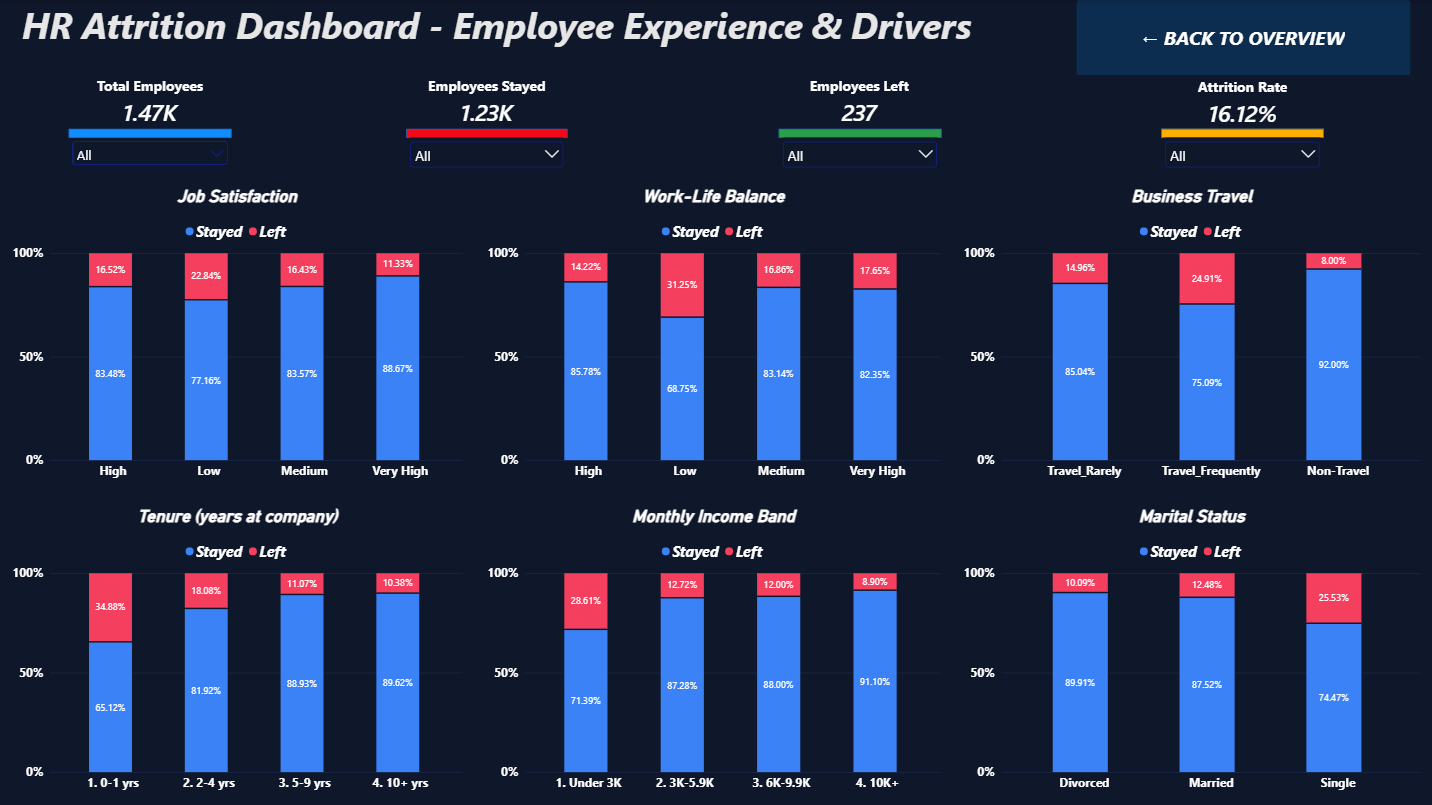

Layout of this report page (visuals, bound fields, positions):
{"tool":"powerbi","page":{"name":"Employee Experience","canvas":[1920,1080],"ordinal":1},"visuals":[{"type":"textbox","box":[0,0,1331,106.3],"z":0},{"type":"actionButton","box":[1442.7,0,448.3,101.2],"z":1000},{"type":"cardVisual","fields":{"Data":["Data.Total Employees"]},"box":[92.4,101.2,218,71.5],"z":2000},{"type":"cardVisual","fields":{"Data":["Data.Attrition Rate"]},"box":[1555.8,102.9,218,71.5],"z":3000},{"type":"cardVisual","fields":{"Data":["Data.Employees Left"]},"box":[1043,101.2,216.3,71.5],"z":4000},{"type":"cardVisual","fields":{"Data":["Data.Employees Stayed"]},"box":[544.2,101.2,216.3,71.5],"z":5000},{"type":"shape","box":[92.4,172.7,218,12.2],"z":6000},{"type":"shape","box":[544.2,172.7,216.3,12.2],"z":7000},{"type":"shape","box":[1043,172.7,218,12.2],"z":8000},{"type":"shape","box":[1555.8,172.7,218,12.2],"z":9000},{"type":"slicer","fields":{"Values":["Data.Gender"]},"box":[92.4,184.9,218,48.8],"z":10000},{"type":"slicer","fields":{"Values":["Data.OverTime"]},"box":[544.2,184.9,216.3,48.8],"z":11000},{"type":"slicer","fields":{"Values":["Data.Department"]},"box":[1043,184.9,218,48.8],"z":12000},{"type":"slicer","fields":{"Values":["Data.JobRole"]},"box":[1555.8,184.9,218,48.8],"z":13000},{"type":"hundredPercentStackedColumnChart","title":"Job Satisfaction","fields":{"Category":["Data.JobSatisfaction"],"Series":["Data.Status"],"Y":["CountNonNull(Data.EmployeeNumber)"]},"box":[0,234.1,635.8,428.7],"z":14000},{"type":"hundredPercentStackedColumnChart","title":"Work-Life Balance","fields":{"Category":["Data.WorkLifeBalance"],"Series":["Data.Status"],"Y":["CountNonNull(Data.EmployeeNumber)"]},"box":[635.8,234.1,639.4,428.7],"z":15000},{"type":"hundredPercentStackedColumnChart","title":"Tenure (years at company)","fields":{"Category":["Data.TenureBand"],"Series":["Data.Status"],"Y":["CountNonNull(Data.EmployeeNumber)"]},"box":[0,662.8,635.8,417.9],"z":16000},{"type":"hundredPercentStackedColumnChart","title":"Monthly Income Band","fields":{"Category":["Data.IncomeBand"],"Series":["Data.Status"],"Y":["CountNonNull(Data.EmployeeNumber)"]},"box":[635.8,662.8,639.4,417.9],"z":17000},{"type":"hundredPercentStackedColumnChart","title":"Business Travel","fields":{"Category":["Data.BusinessTravel"],"Series":["Data.Status"],"Y":["CountNonNull(Data.EmployeeNumber)"]},"box":[1275.2,234.1,644.8,428.7],"z":18000},{"type":"hundredPercentStackedColumnChart","title":"Marital Status","fields":{"Category":["Data.MaritalStatus"],"Series":["Data.Status"],"Y":["CountNonNull(Data.EmployeeNumber)"]},"box":[1275.2,662.8,644.8,417.9],"z":19000}]}

Visuals, with their boxes in screenshot pixels (x1, y1, x2, y2), scaled from the page's 1920x1080 canvas onto the 1432x805 screenshot:
textbox: crop(0, 0, 993, 79)
actionButton: crop(1076, 0, 1410, 75)
cardVisual - Data.Total Employees: crop(69, 75, 232, 129)
cardVisual - Data.Attrition Rate: crop(1160, 77, 1323, 130)
cardVisual - Data.Employees Left: crop(778, 75, 939, 129)
cardVisual - Data.Employees Stayed: crop(406, 75, 567, 129)
shape: crop(69, 129, 232, 138)
shape: crop(406, 129, 567, 138)
shape: crop(778, 129, 940, 138)
shape: crop(1160, 129, 1323, 138)
slicer - Data.Gender: crop(69, 138, 232, 174)
slicer - Data.OverTime: crop(406, 138, 567, 174)
slicer - Data.Department: crop(778, 138, 940, 174)
slicer - Data.JobRole: crop(1160, 138, 1323, 174)
"Job Satisfaction" hundredPercentStackedColumnChart: crop(0, 174, 474, 494)
"Work-Life Balance" hundredPercentStackedColumnChart: crop(474, 174, 951, 494)
"Tenure (years at company)" hundredPercentStackedColumnChart: crop(0, 494, 474, 804)
"Monthly Income Band" hundredPercentStackedColumnChart: crop(474, 494, 951, 804)
"Business Travel" hundredPercentStackedColumnChart: crop(951, 174, 1431, 494)
"Marital Status" hundredPercentStackedColumnChart: crop(951, 494, 1431, 804)
